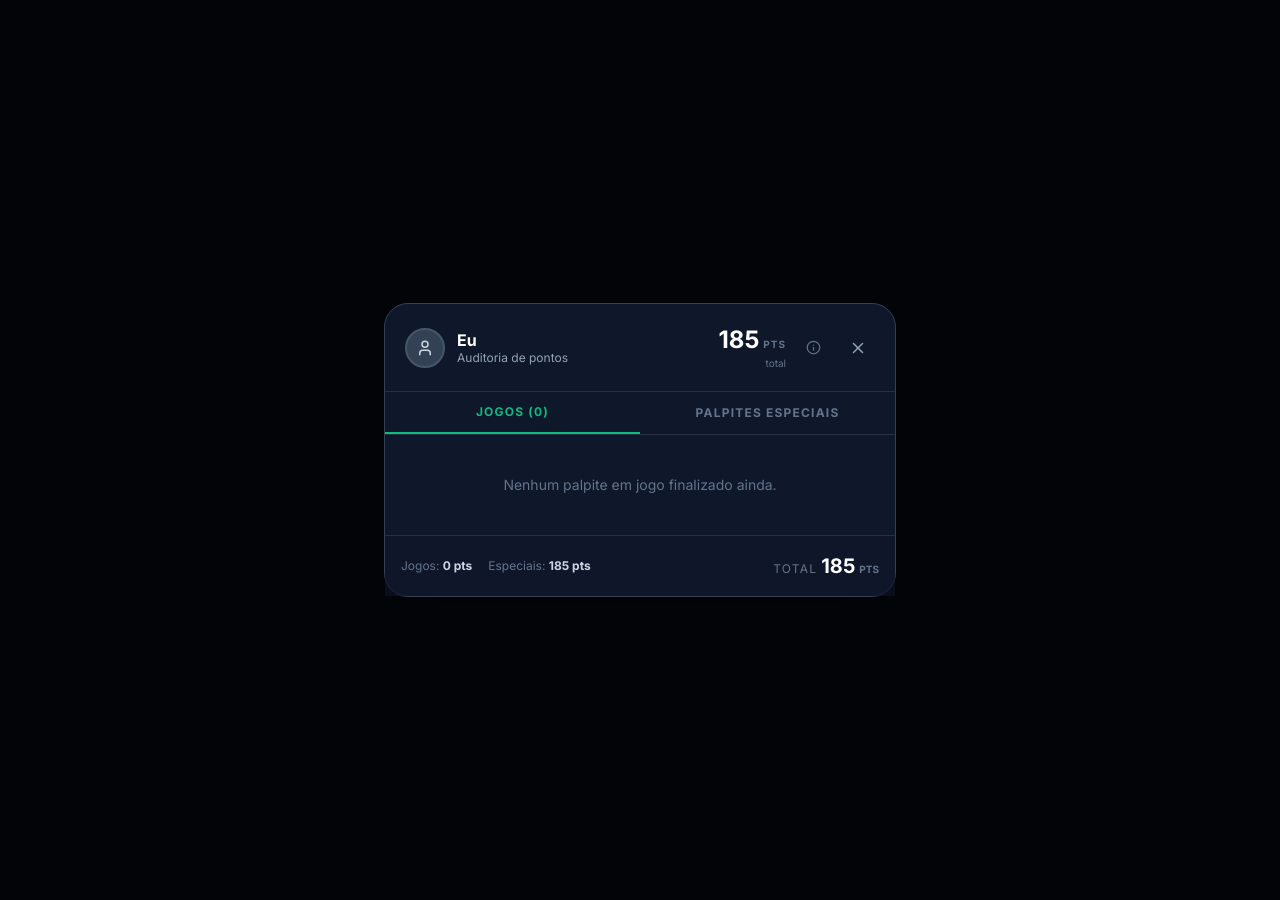
Test: UserAuditModal - Regulamento 2 special predictions accordion › renders groups closed by default with totals visible on root
What coordinates should you click on to do the following:
click the button "Palpites Especiais"
I would click on:
 (768, 413)
Its box is [640, 392, 895, 434].
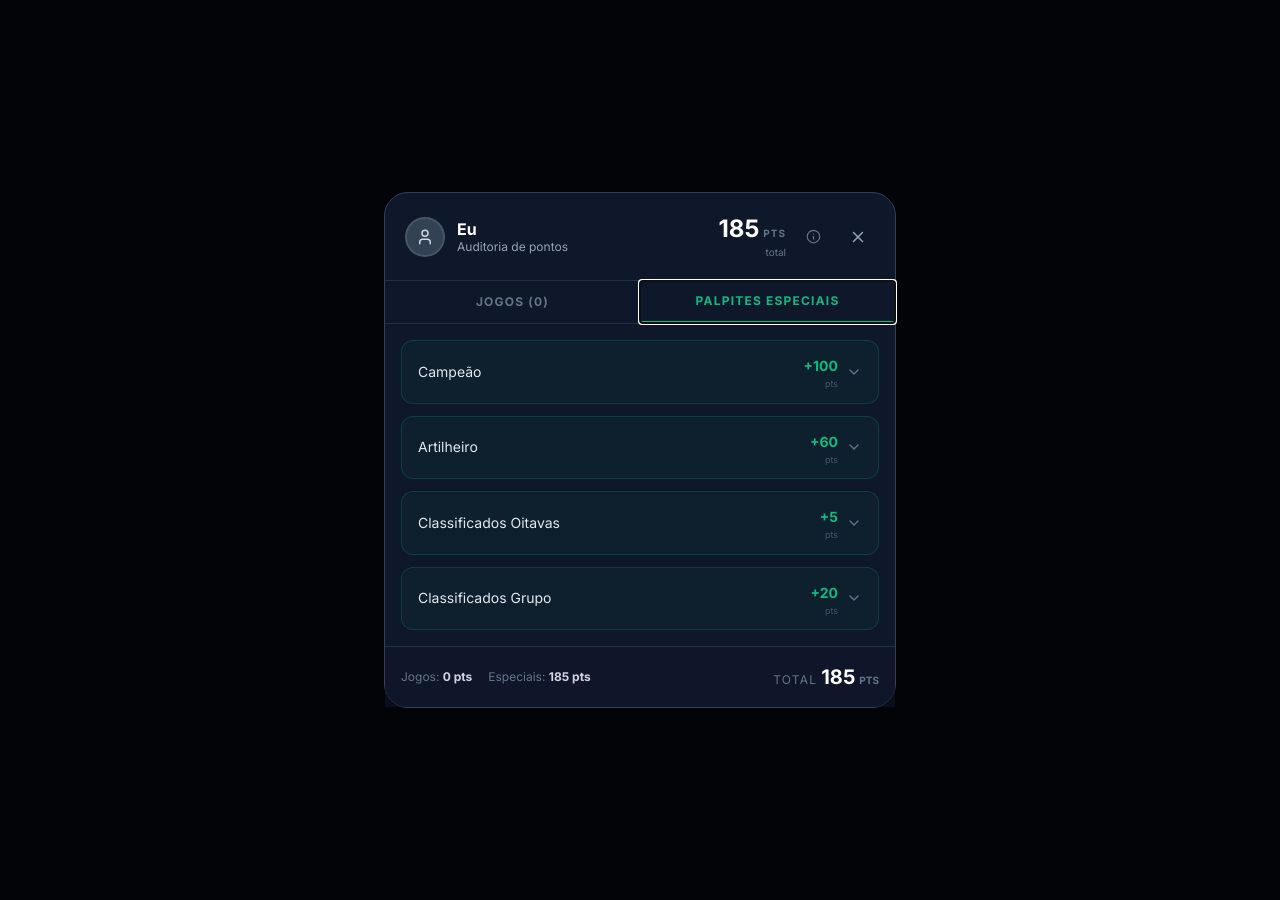
Expected: the text "Campeão" is shown, [418, 363, 482, 380]
Expected: the text "Artilheiro" is shown, [418, 438, 478, 455]
Expected: the text "Classificados Grupo" is shown, [418, 589, 552, 606]
